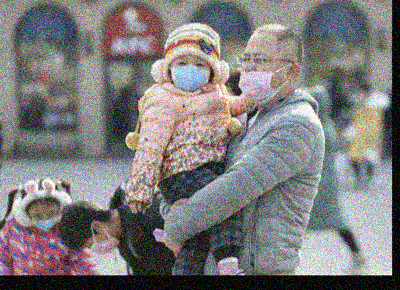mask_weared_incorrect: (236, 49, 289, 107)
with_mask: (169, 56, 213, 92), (83, 235, 123, 255), (30, 207, 59, 232)
